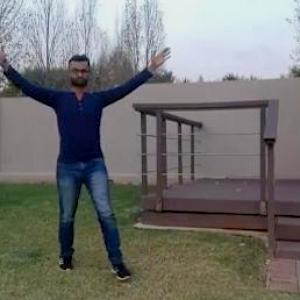takeoff: (0, 38, 175, 285)
